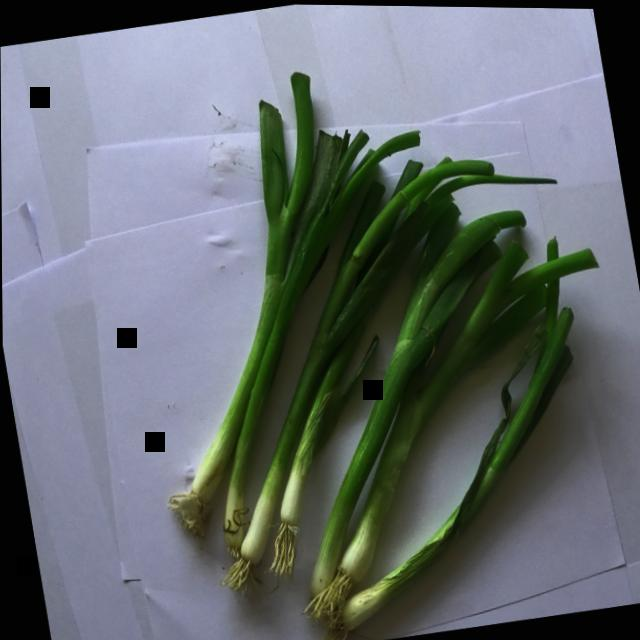Springonion: (85, 1, 640, 640)
